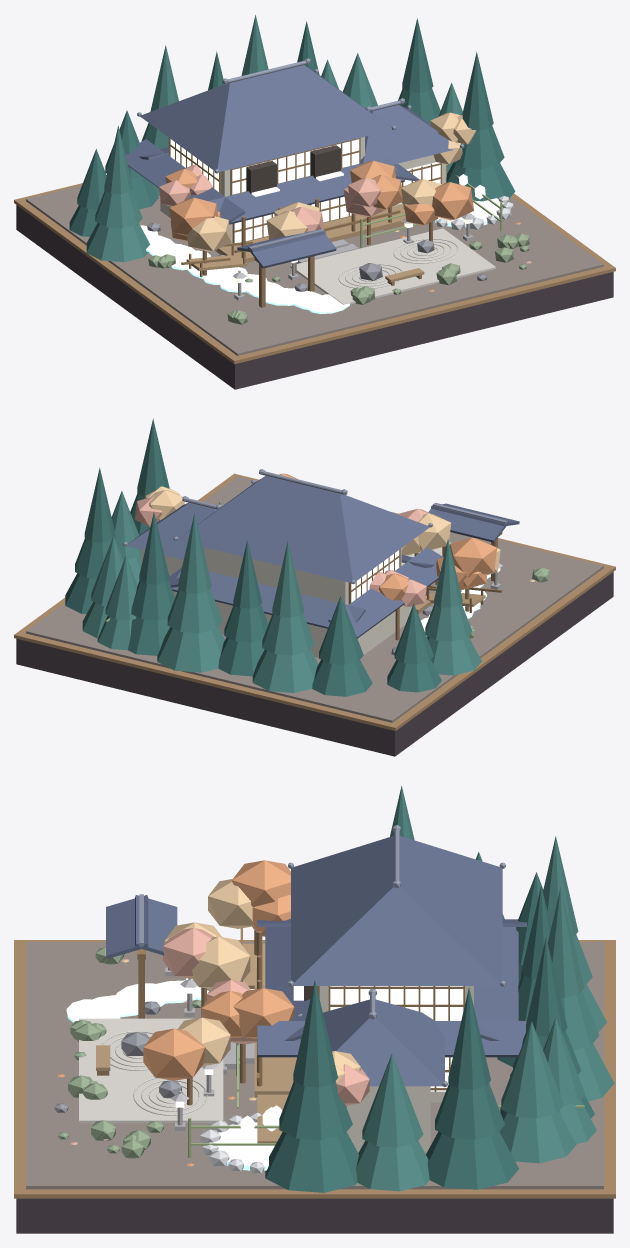
Rendered from ryokan_dusk.glb.
3 views of the same model, one above another, from view 1: azimuth 30°, elevation 25°; view 2: azimuth 150°, elevation 25°; view 3: azimuth 270°, elevation 25° (orthographic). The views are drawn at different scales.
Visible parts, largest first — view 1: ground, plinth, roof_main, zen_gravel, plinth_trim, roof_an, skirt_f, skirt_l, fir_11_0, shoji_f2_f, gate_roof, fir_8_0 (+34 smaller); view 2: plinth, ground, roof_main, plinth_trim, f2_core, fir_3_0, skirt_l, fir_1_0, skirt_b, roof_an, fir_3_1, fir_0_1 (+34 smaller); view 3: ground, roof_main, plinth, plinth_trim, zen_gravel, roof_an, fir_8_0, fir_6_0, fir_5_1, skirt_r, fir_8_1, fir_7_1 (+39 smaller).
Part boxes in pixels (x1,y1,x2,y2): ground: (26, 185, 603, 355); plinth: (16, 205, 613, 389); roof_main: (140, 65, 392, 171); zen_gravel: (290, 228, 495, 304); plinth_trim: (14, 183, 615, 364); roof_an: (359, 105, 460, 164); skirt_f: (208, 157, 404, 224); skirt_l: (125, 139, 245, 222); fir_11_0: (86, 223, 150, 262); shoji_f2_f: (232, 139, 359, 194); gate_roof: (247, 229, 336, 268); fir_8_0: (446, 163, 515, 201); plinth: (16, 572, 613, 756); ground: (26, 476, 603, 722); roof_main: (178, 476, 429, 582); plinth_trim: (14, 473, 615, 730); f2_core: (205, 547, 401, 604); fir_3_0: (157, 627, 224, 672); skirt_l: (328, 547, 443, 638); fir_1_0: (252, 649, 318, 692); skirt_b: (171, 571, 365, 628); roof_an: (127, 502, 217, 559); fir_3_1: (167, 589, 222, 633); fir_0_1: (319, 596, 363, 664); ground: (26, 942, 603, 1189); roof_main: (291, 836, 502, 985); plinth: (16, 1198, 613, 1233); plinth_trim: (14, 940, 615, 1198); zen_gravel: (79, 1018, 223, 1122); roof_an: (300, 999, 444, 1086); fir_8_0: (265, 1132, 358, 1192); fir_6_0: (426, 1131, 518, 1189); fir_5_1: (501, 1021, 563, 1118); skirt_r: (257, 1021, 526, 1057); fir_8_1: (279, 1081, 352, 1140); fir_7_1: (362, 1053, 423, 1147).
Size of the model in its own units: 12.73 by 5.57 by 12.5.
